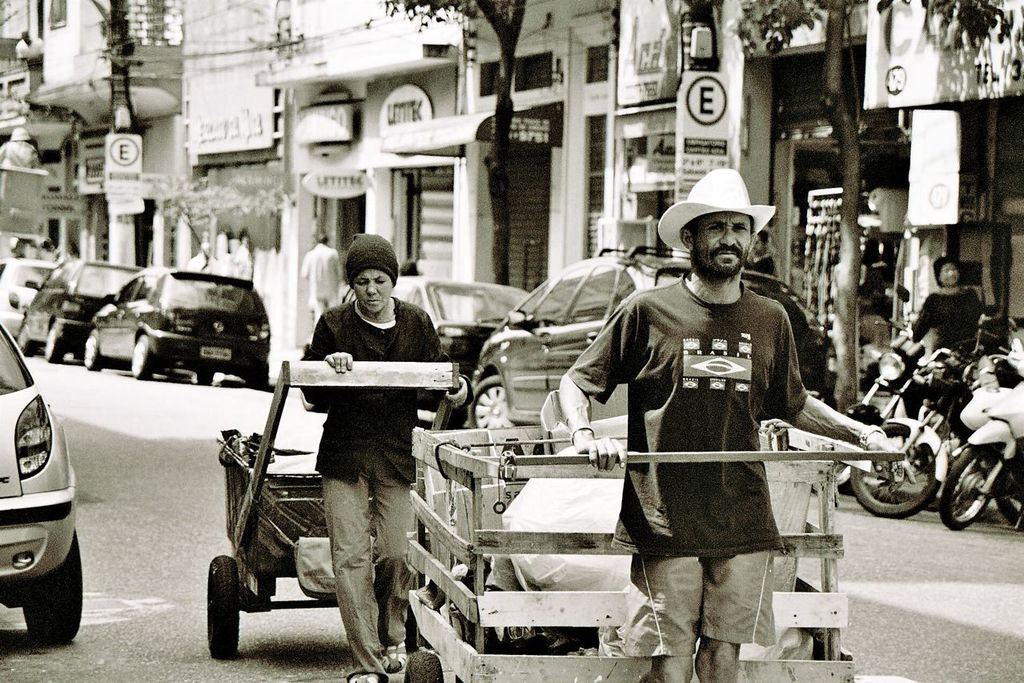Car: (474, 241, 819, 425), (340, 277, 535, 430), (0, 316, 80, 646), (82, 267, 267, 392), (17, 255, 144, 361), (0, 257, 54, 338)
